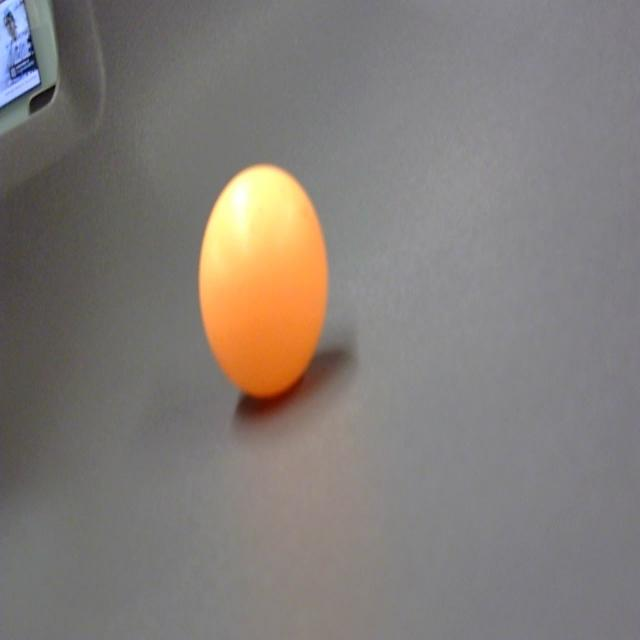ball: (198, 161, 331, 408)
